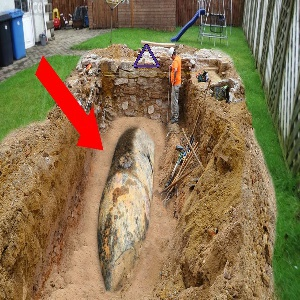triangle: (131, 42, 162, 69)
